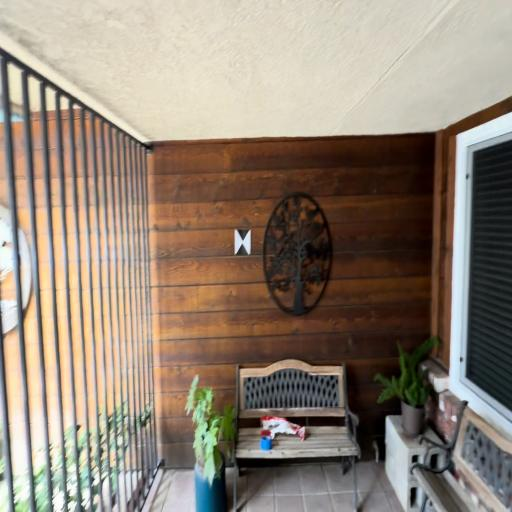target: (234, 230, 251, 254)
